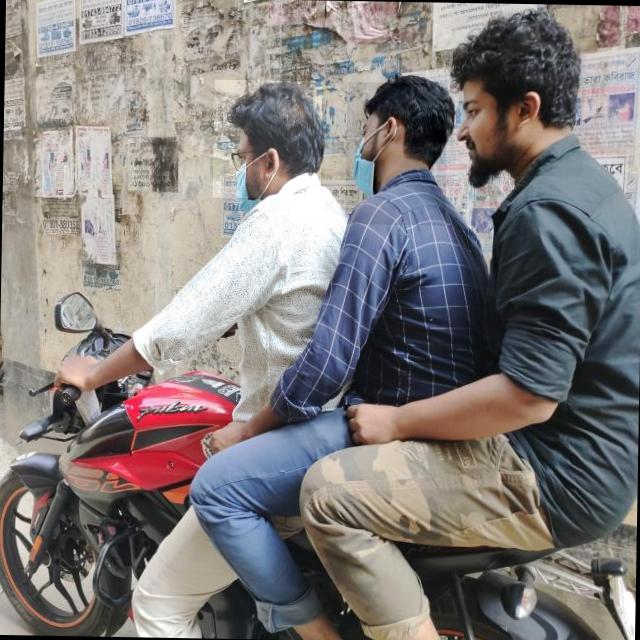without helmet: (448, 2, 586, 176), (345, 81, 447, 226), (212, 79, 322, 199)
